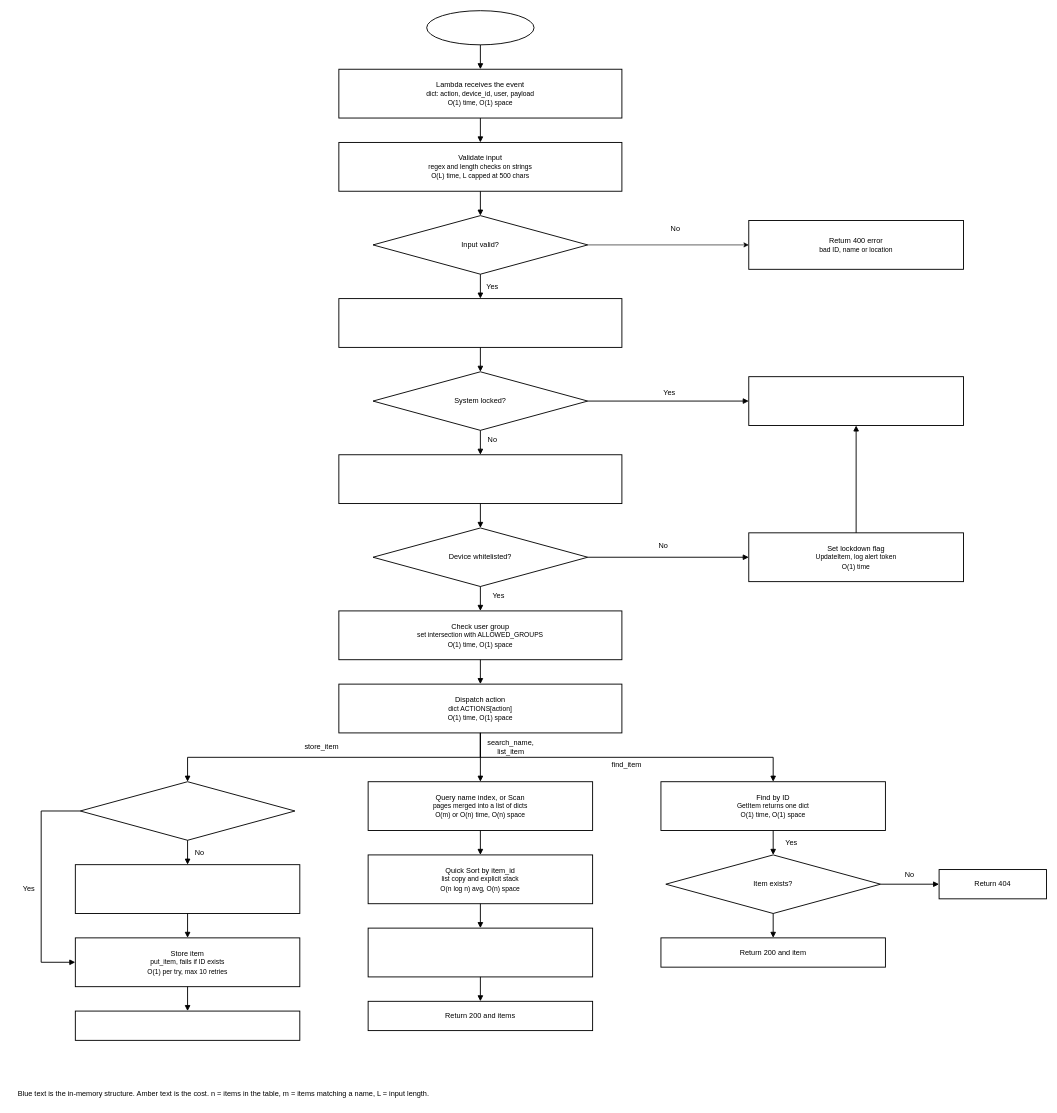
Some shapes in this 1057 by 1113 pixel diagram are drawn without their labels. The shapes that lost their labels are listed below. From the top down, each one's centre as x and y in pixels, then its label:
At (480,27): "Start".
At (480,323): "Read LOCKDOWN row GetItem returns one dict O(1) time, O(1) space".
At (856,401): "Return 423 locked same message".
At (480,479): "Read device row GetItem returns one dict O(1) time, O(1) space".
At (187,810): "Manual ID given?".
At (187,889): "Take next ID counter row ADD returns int O(1) time, O(1) space".
At (480,952): "Paginate list slice O(page size) time".
At (187,1025): "Return 201 and item".
